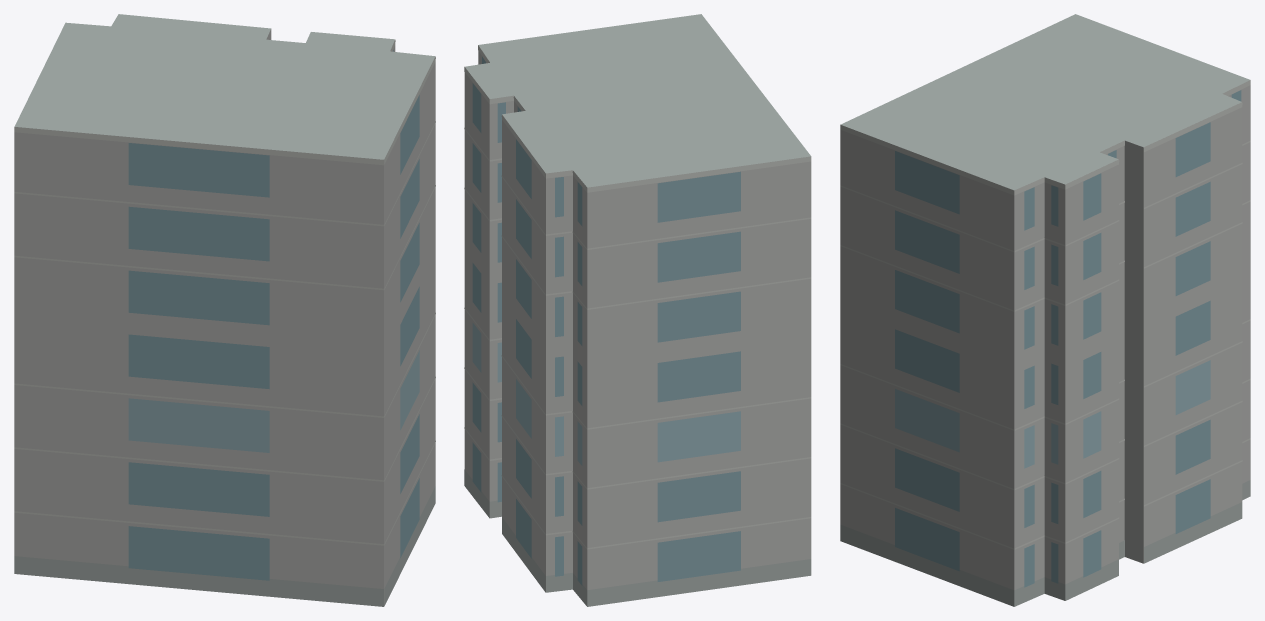
File: survey-upis-32901090.glb
3 renders of one model, left to right at view 1: azimuth 30°, elevation 25°; view 2: azimuth 150°, elevation 25°; view 3: azimuth 270°, elevation 25°, orthographic. The views are drawn at different scales.
Parts seen in each view (by area): view 1: survey-upis-32901090.tmp; view 2: survey-upis-32901090.tmp; view 3: survey-upis-32901090.tmp.
Part boxes in pixels (x1,y1,x2,y2): survey-upis-32901090.tmp: [14, 14, 435, 606]; survey-upis-32901090.tmp: [464, 14, 811, 606]; survey-upis-32901090.tmp: [840, 14, 1250, 606].
Bounding box in the file's own units: 18.1 × 19.9 × 17.78.
